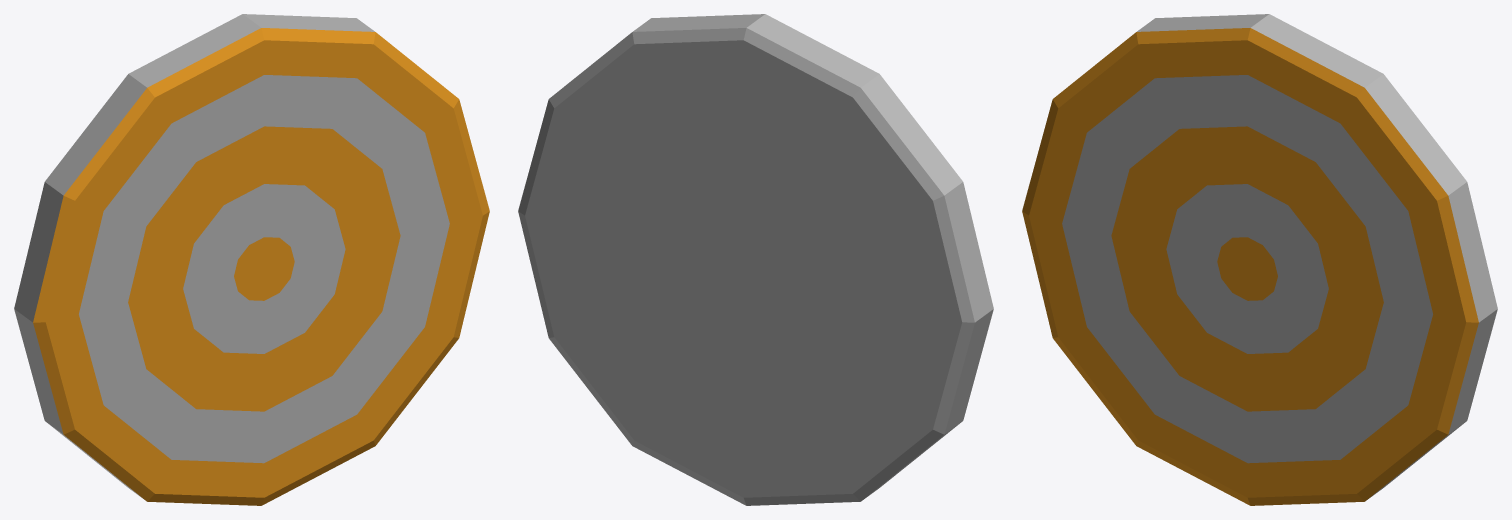
File: ShootingTarget.fbx
The picture shows the model from 3 angles, left to right: view 1: azimuth 30°, elevation 25°; view 2: azimuth 150°, elevation 25°; view 3: azimuth 330°, elevation 25°; orthographic projection.
Visible parts, largest first — view 1: Cylinder; view 2: Cylinder; view 3: Cylinder.
Part boxes in pixels (x1,y1,x2,y2): Cylinder: [14, 14, 489, 505]; Cylinder: [518, 14, 993, 505]; Cylinder: [1022, 14, 1497, 505].
Size of the model in its own units: 200 by 200 by 18.73.
